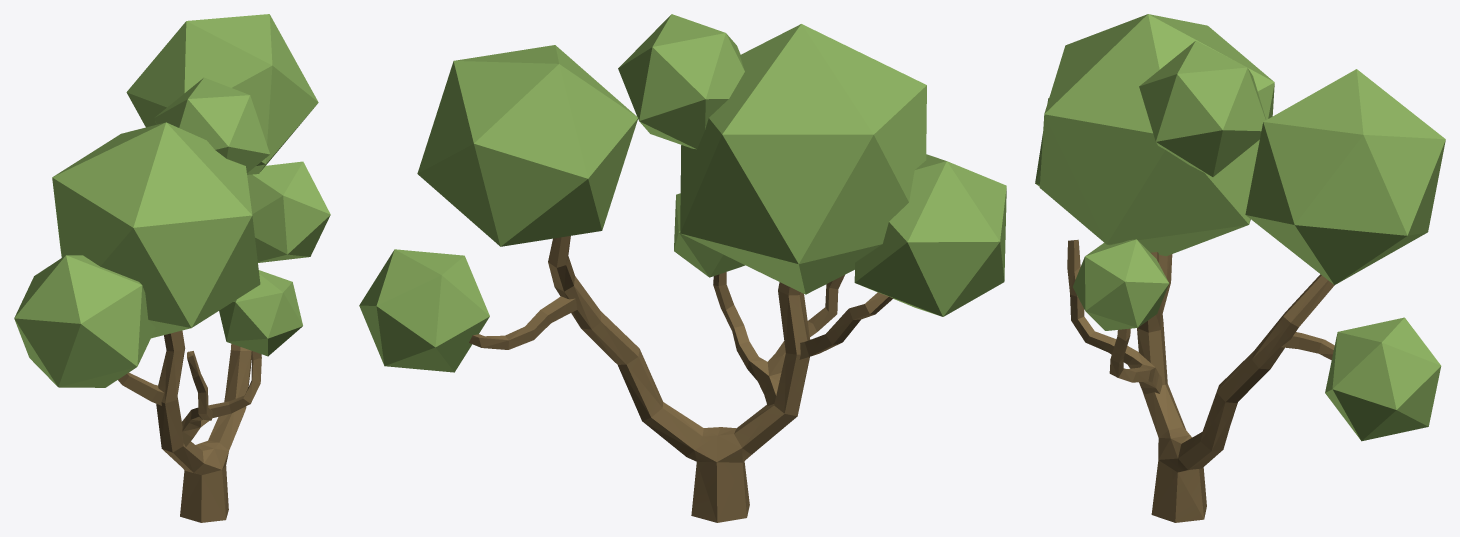
File: Tree.dae
3 views of the same model, side by side, from view 1: azimuth 30°, elevation 25°; view 2: azimuth 150°, elevation 25°; view 3: azimuth 270°, elevation 25° (orthographic). The views are drawn at different scales.
Visible parts, largest first — view 1: Tree_lp_11.002; view 2: Tree_lp_11.002; view 3: Tree_lp_11.002.
Boxes of the visible parts, left/top/right/bottom form: Tree_lp_11.002: left=14, top=14, right=330, bottom=522; Tree_lp_11.002: left=359, top=14, right=1006, bottom=522; Tree_lp_11.002: left=1035, top=14, right=1445, bottom=522.
Size of the model in its own units: 27.98 by 20.8 by 26.54.
